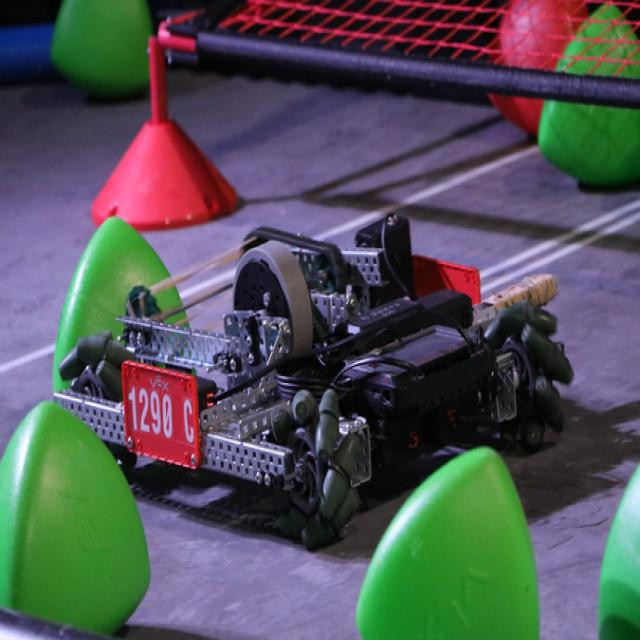License-Plates: (124, 359, 198, 466)
